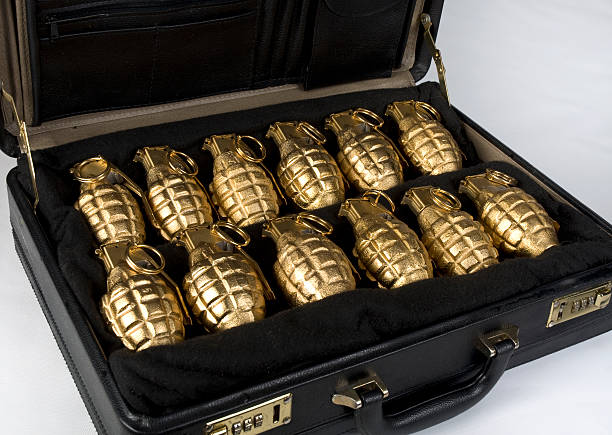e1: (95, 240, 190, 351), (261, 211, 353, 303), (404, 184, 498, 272), (197, 130, 280, 223), (134, 145, 215, 231), (267, 118, 344, 208), (65, 157, 143, 243), (387, 97, 461, 173)
